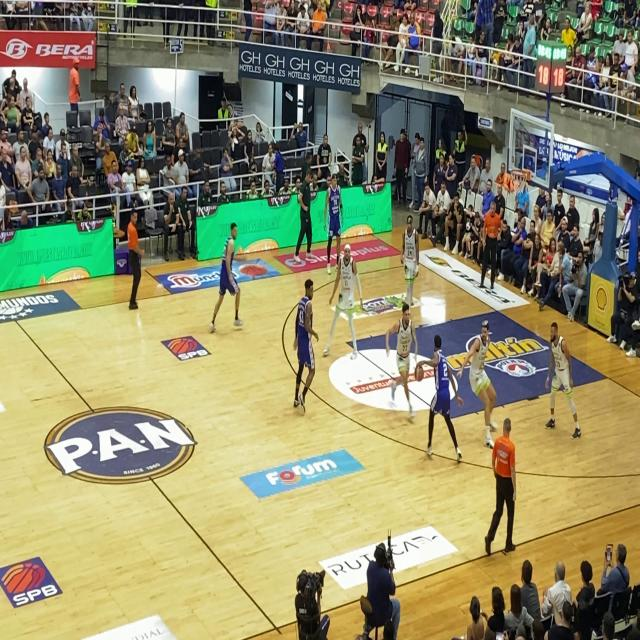Ball: (409, 363, 427, 384)
referee: (481, 404, 529, 562), (121, 200, 152, 328), (476, 200, 506, 304)
team1: (376, 298, 427, 427), (459, 305, 499, 451), (540, 317, 582, 454), (322, 243, 362, 369), (395, 215, 430, 310)
team2: (287, 270, 323, 428), (424, 326, 462, 473), (212, 218, 242, 349), (318, 168, 343, 268)
ubasket: (512, 166, 530, 197)
